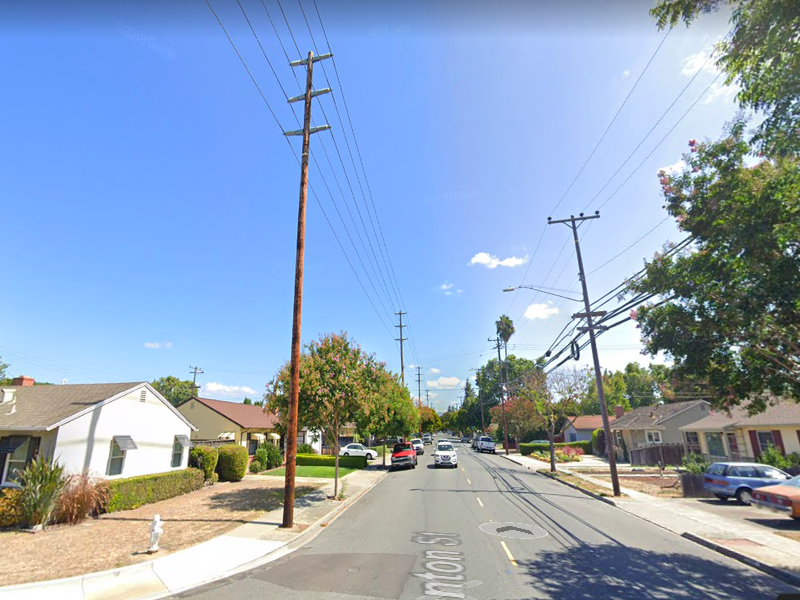utility_pole: (273, 41, 340, 152), (542, 206, 606, 245), (388, 306, 412, 348)
